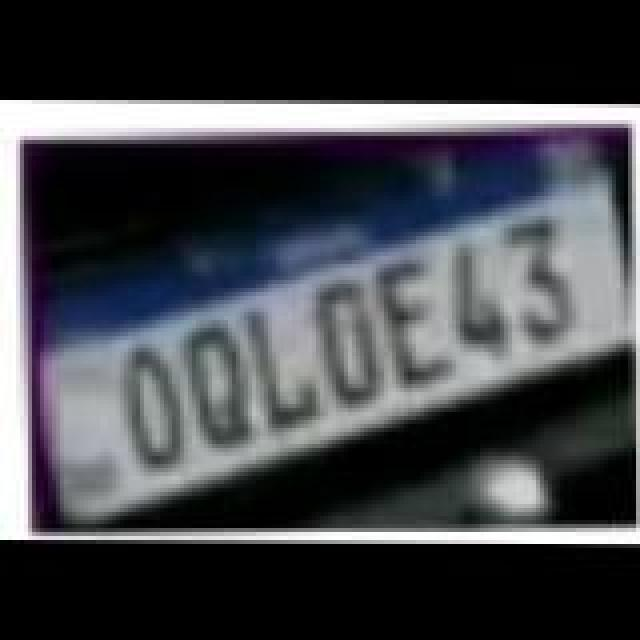3: (506, 220, 582, 348)
4: (444, 242, 516, 362)
D: (312, 280, 392, 412)
E: (376, 260, 456, 392)
L: (244, 306, 324, 434)
O: (118, 344, 194, 472)
Q: (180, 320, 260, 452)
